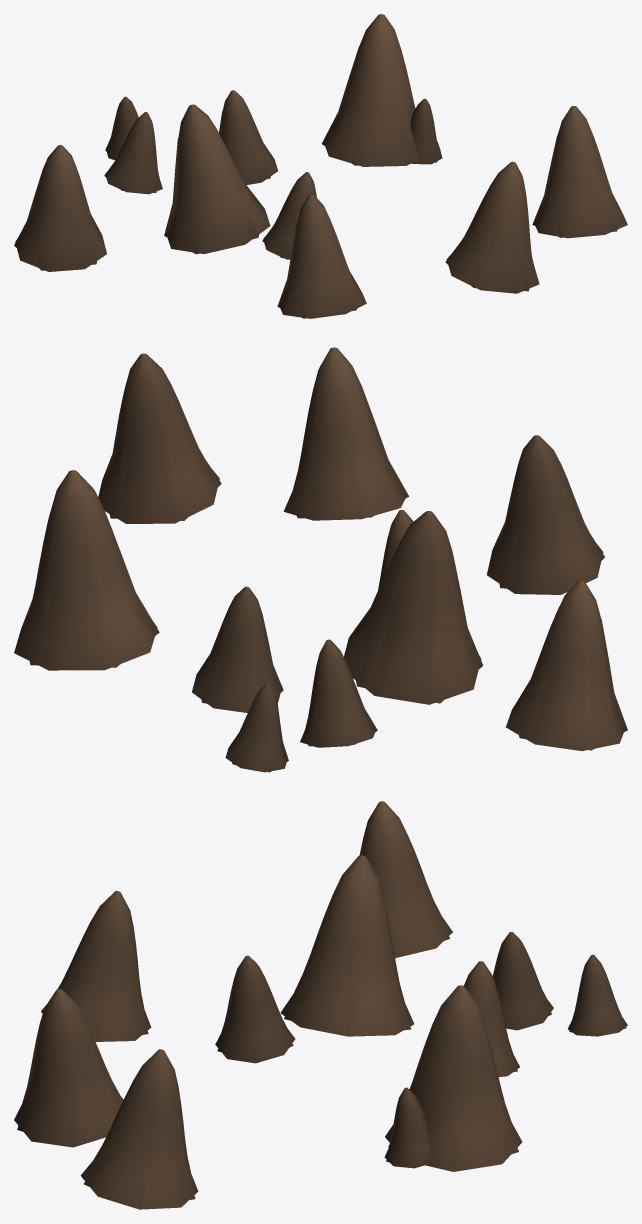
The model's file is cypress-knees.glb.
3 views of the same model, one above another, from view 1: azimuth 30°, elevation 25°; view 2: azimuth 150°, elevation 25°; view 3: azimuth 270°, elevation 25° (orthographic). The views are drawn at different scales.
Visible parts, largest first — view 1: cypress-knees, cypress-knees-lo; view 2: cypress-knees, cypress-knees-lo; view 3: cypress-knees, cypress-knees-lo.
Part boxes in pixels (x1=…): cypress-knees: x1=15, y1=14, x2=627, y2=318; cypress-knees-lo: x1=14, y1=14, x2=621, y2=318; cypress-knees: x1=14, y1=347, x2=623, y2=772; cypress-knees-lo: x1=21, y1=347, x2=627, y2=772; cypress-knees: x1=14, y1=801, x2=627, y2=1209; cypress-knees-lo: x1=17, y1=801, x2=626, y2=1208.
Bounding box in the file's own units: 2.49 × 0.6626 × 2.18.
